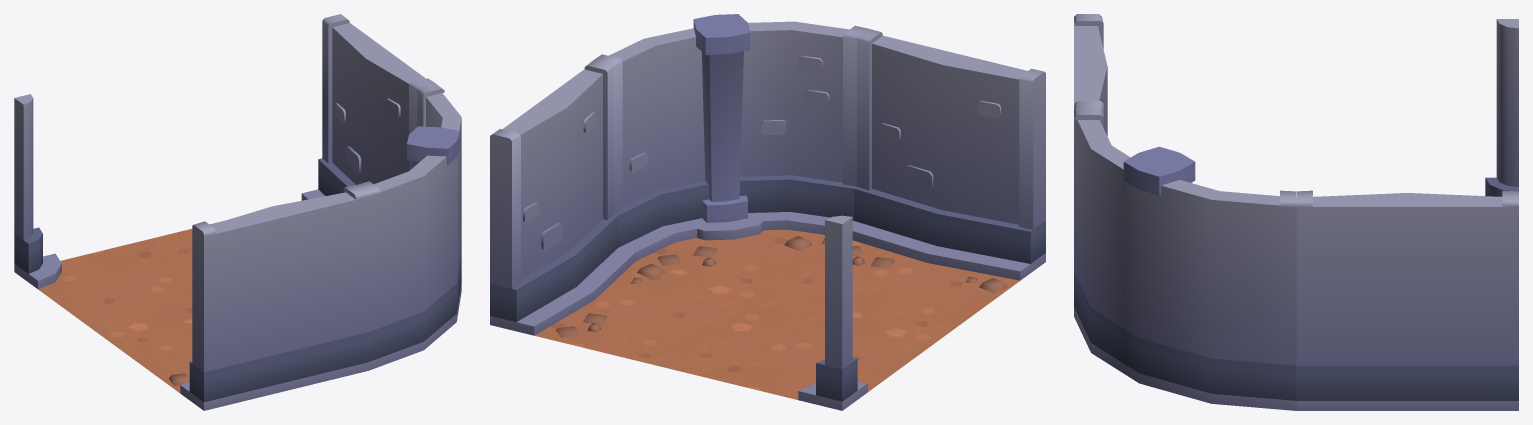
The model's file is corridor-wide-corner.glb.
The picture shows the model from 3 angles, left to right: view 1: azimuth 30°, elevation 25°; view 2: azimuth 150°, elevation 25°; view 3: azimuth 270°, elevation 25°; orthographic projection. The views are drawn at different scales.
Parts seen in each view (by area): view 1: corridor-wide-corner; view 2: corridor-wide-corner; view 3: corridor-wide-corner.
Boxes of the visible parts, box(x1,y1,x2,y2) form: corridor-wide-corner: box(14, 14, 461, 410); corridor-wide-corner: box(490, 14, 1045, 410); corridor-wide-corner: box(1074, 14, 1518, 410).
Bounding box in the file's own units: 8 × 4.23 × 8.
Materials: 1 (1 with a texture image).
